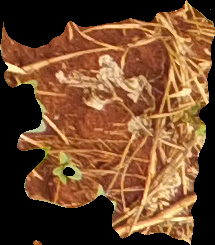soil: (1, 2, 211, 240)
